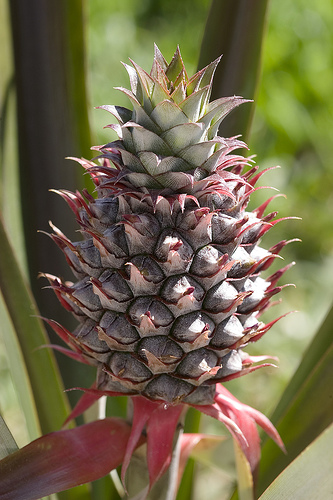pineapple: (28, 41, 300, 492)
